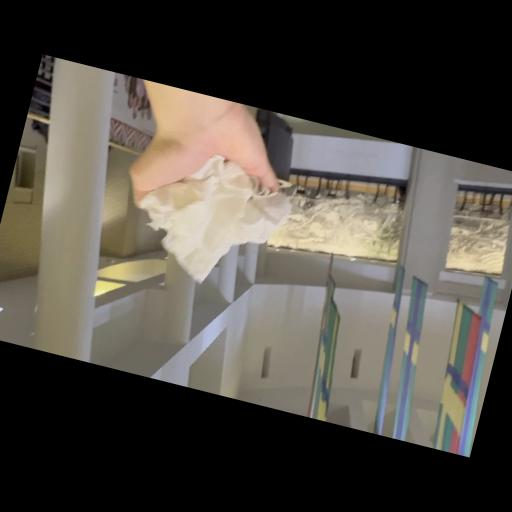napkin: (121, 137, 300, 301)
